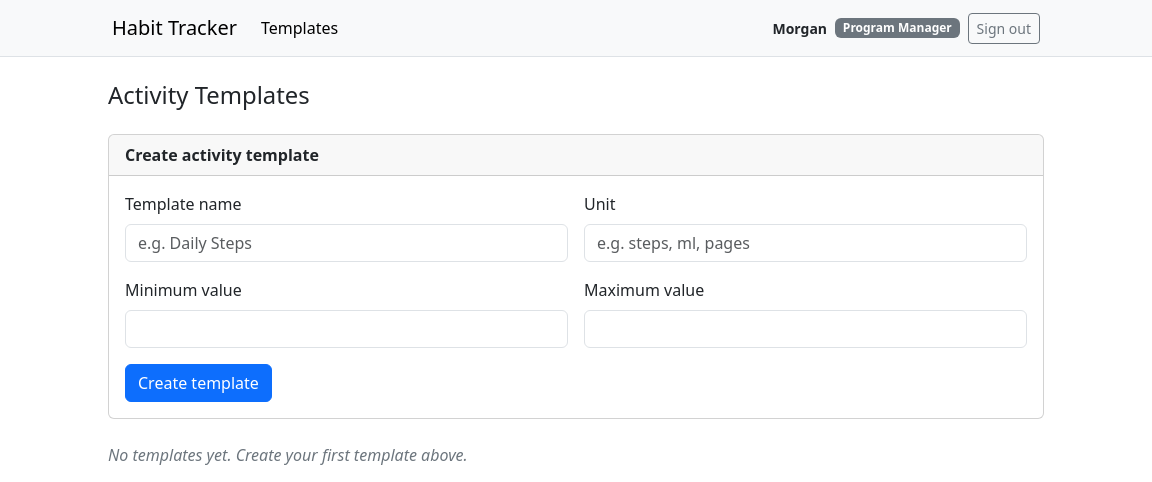
Test: TEST-UI-02 App session handling › shows the user's name and role from /api/auth/me, and returns to Sign in after signing out
This screenshot has width=1152, height=482.
Expected: the text "Morgan" is shown, [772,18,827,38]
Expected: the text "Program Manager" is shown, [835,18,960,38]
Click the button "Sign out": (1004, 28) [968,12,1040,44]
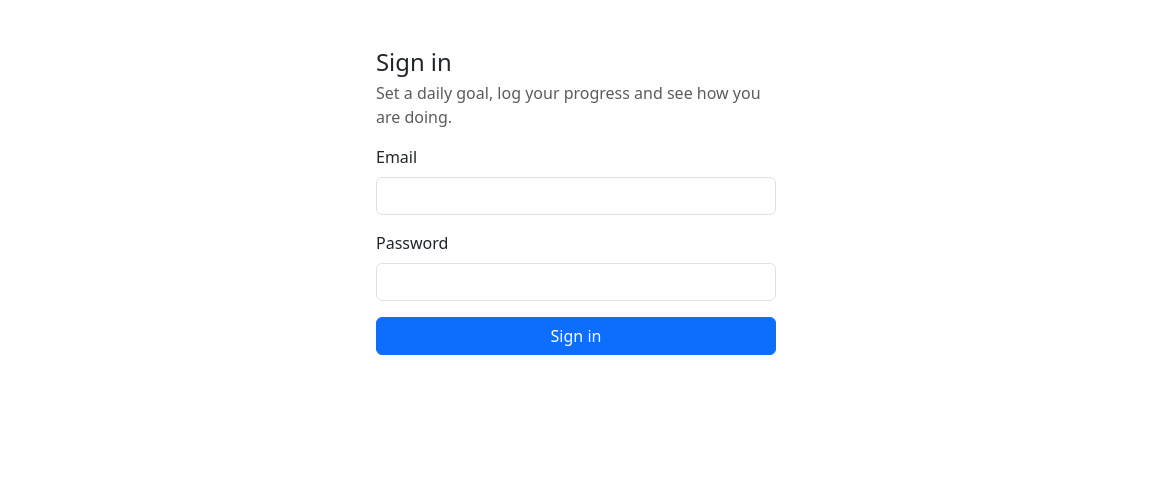
Now the button "Sign in" is shown, box [376,317,776,355]
Now the text "Morgan" is gone
